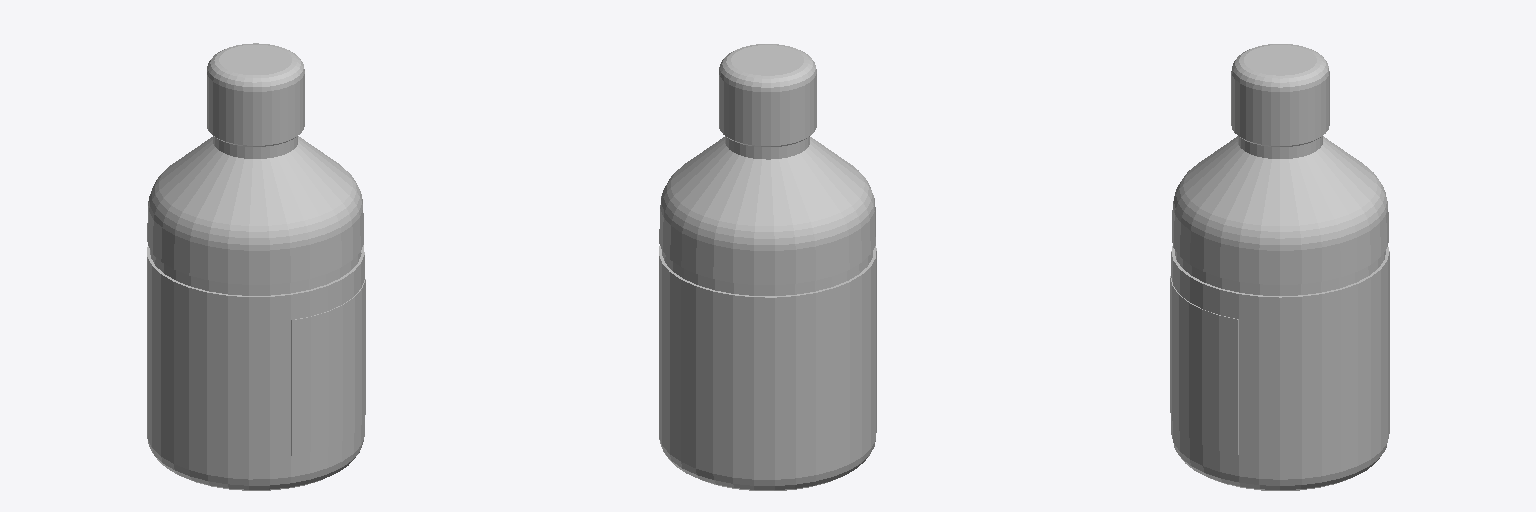
File: SetA_Bottle_Style_02.obj
The picture shows the model from 3 angles: view 1: azimuth 30°, elevation 25°; view 2: azimuth 150°, elevation 25°; view 3: azimuth 270°, elevation 25°; orthographic projection.
Visible parts, largest first — view 1: SetA_Bottle_Style_02; view 2: SetA_Bottle_Style_02; view 3: SetA_Bottle_Style_02.
Part boxes in pixels (x1,y1,x2,y2): SetA_Bottle_Style_02: (147, 43, 365, 490); SetA_Bottle_Style_02: (659, 44, 876, 490); SetA_Bottle_Style_02: (1170, 44, 1389, 490).
Size of the model in its own units: 0.1125 by 0.2225 by 0.1129.